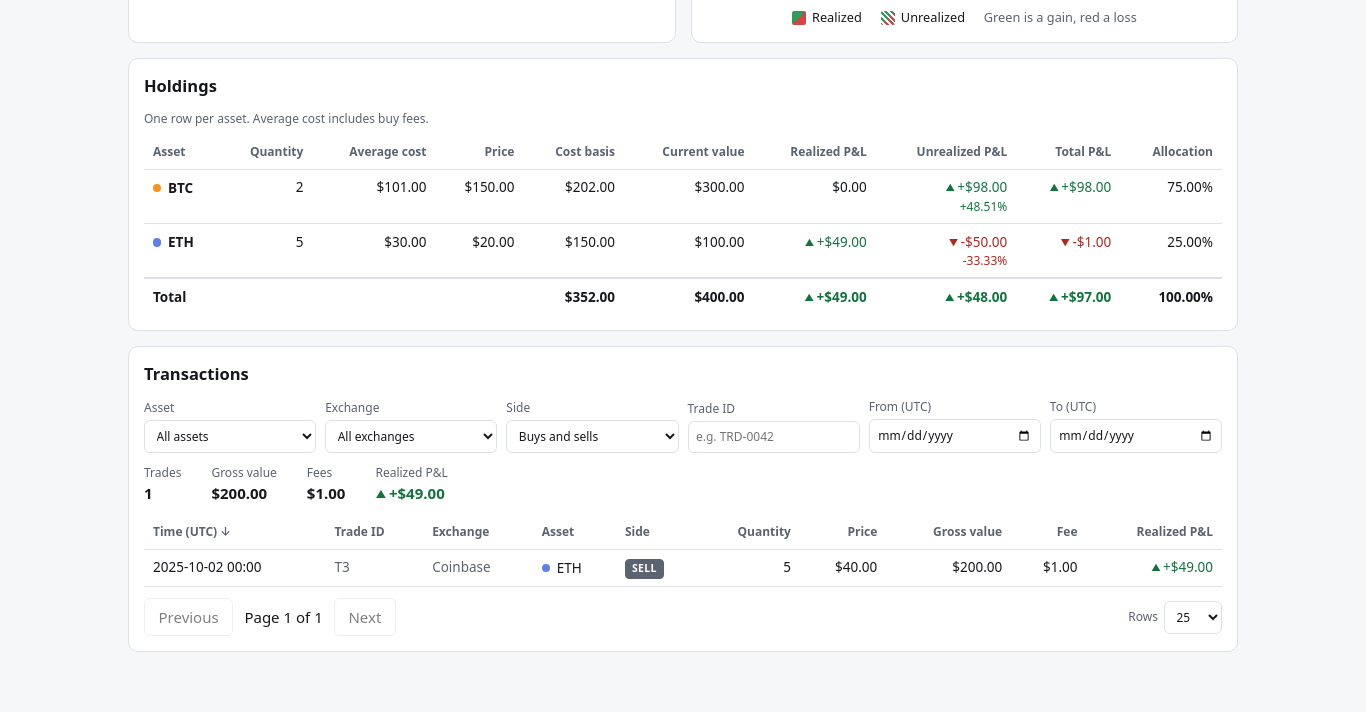
Scenario: transaction explorer › explains an impossible date range instead of querying
This screenshot has width=1366, height=712.
(page scrolled)
Expected: the text "T3" is shown, [325,550,423,587]
Type "2025-12-01" into the date field labelled "From (UTC)" at (955, 436), box [869,419,1041,453]
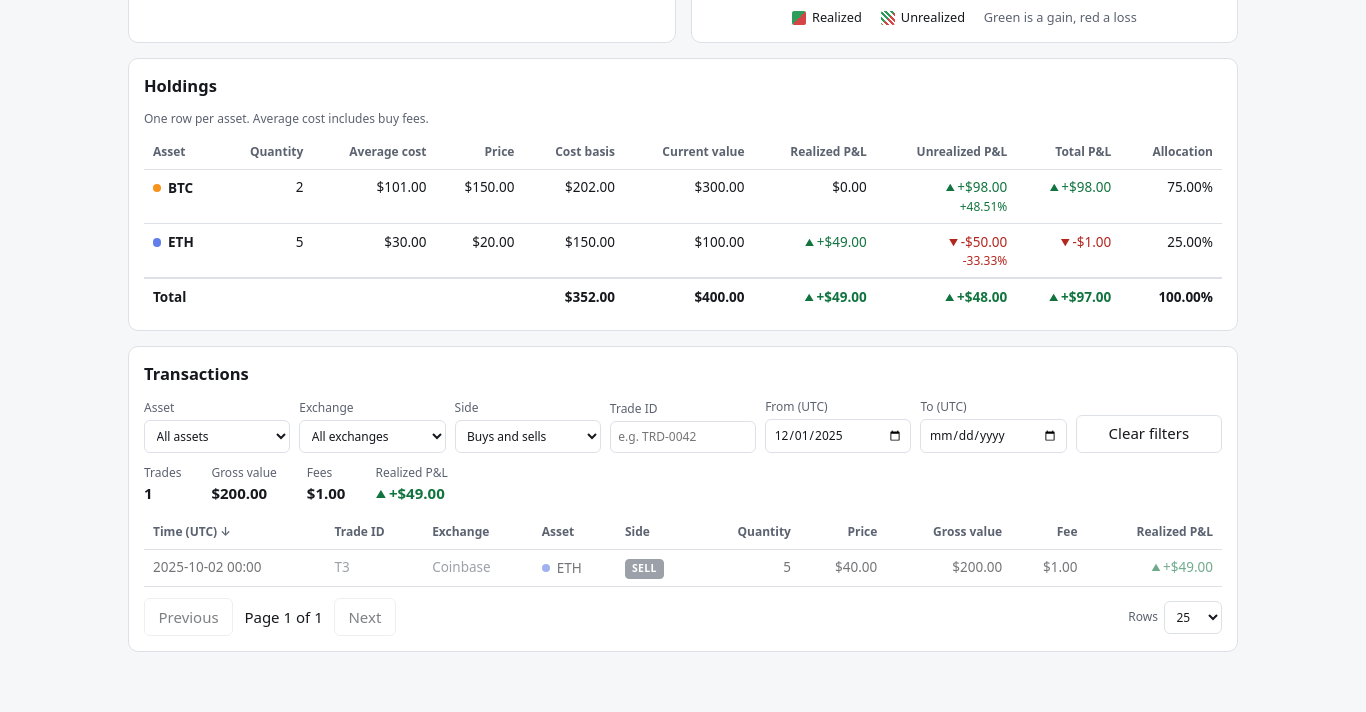
Type "2025-11-01" into the date field labelled "To (UTC)" at (994, 436), box [920,419,1067,453]
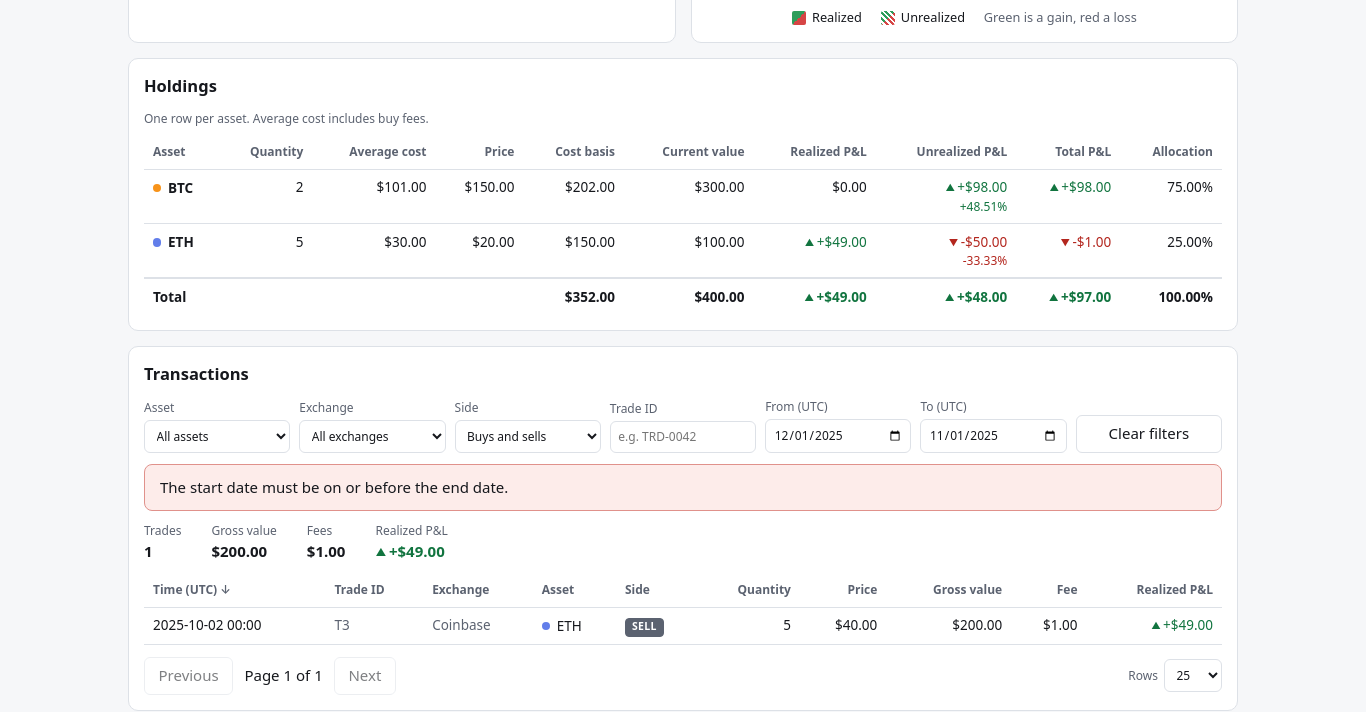
Expected: the text "The start date must be on or before the end date." is shown, [160,477,508,497]
